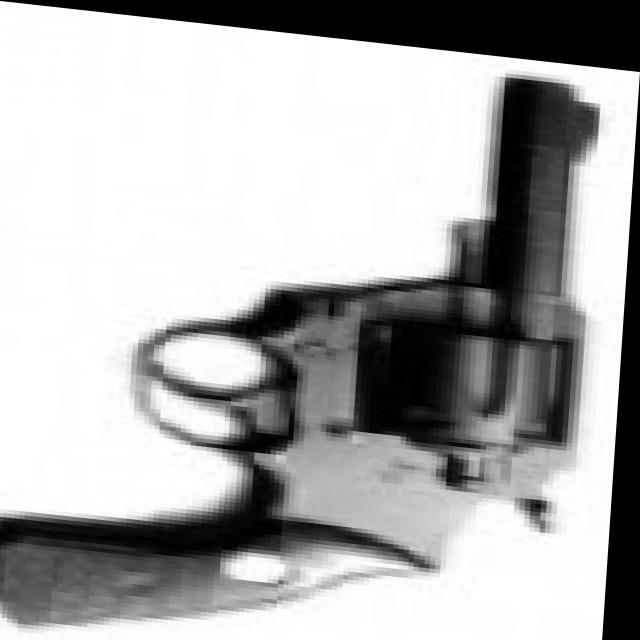handgun: (0, 18, 612, 640)
